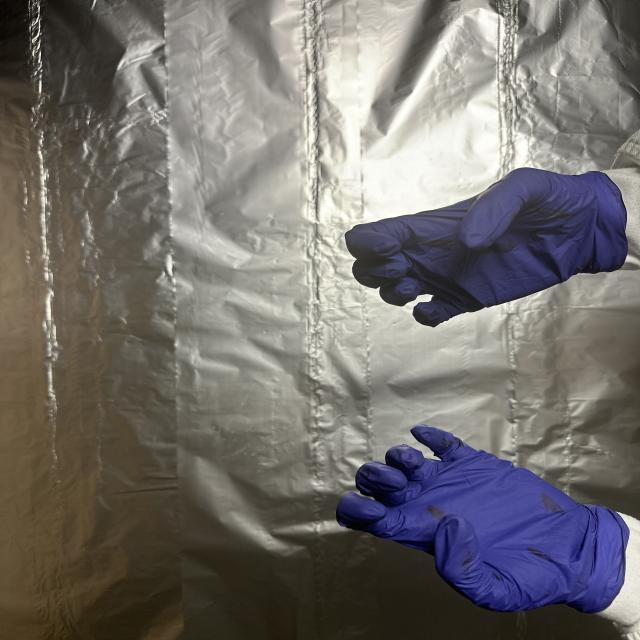gloves_contaminated: (336, 425, 629, 613), (346, 168, 628, 327)
